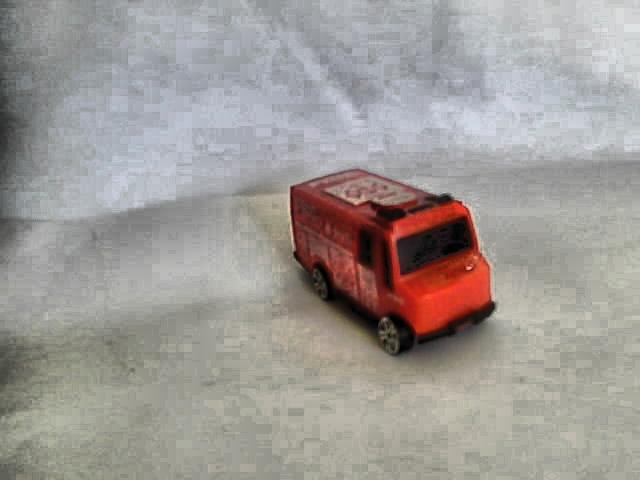fire_truck: (279, 159, 503, 360)
